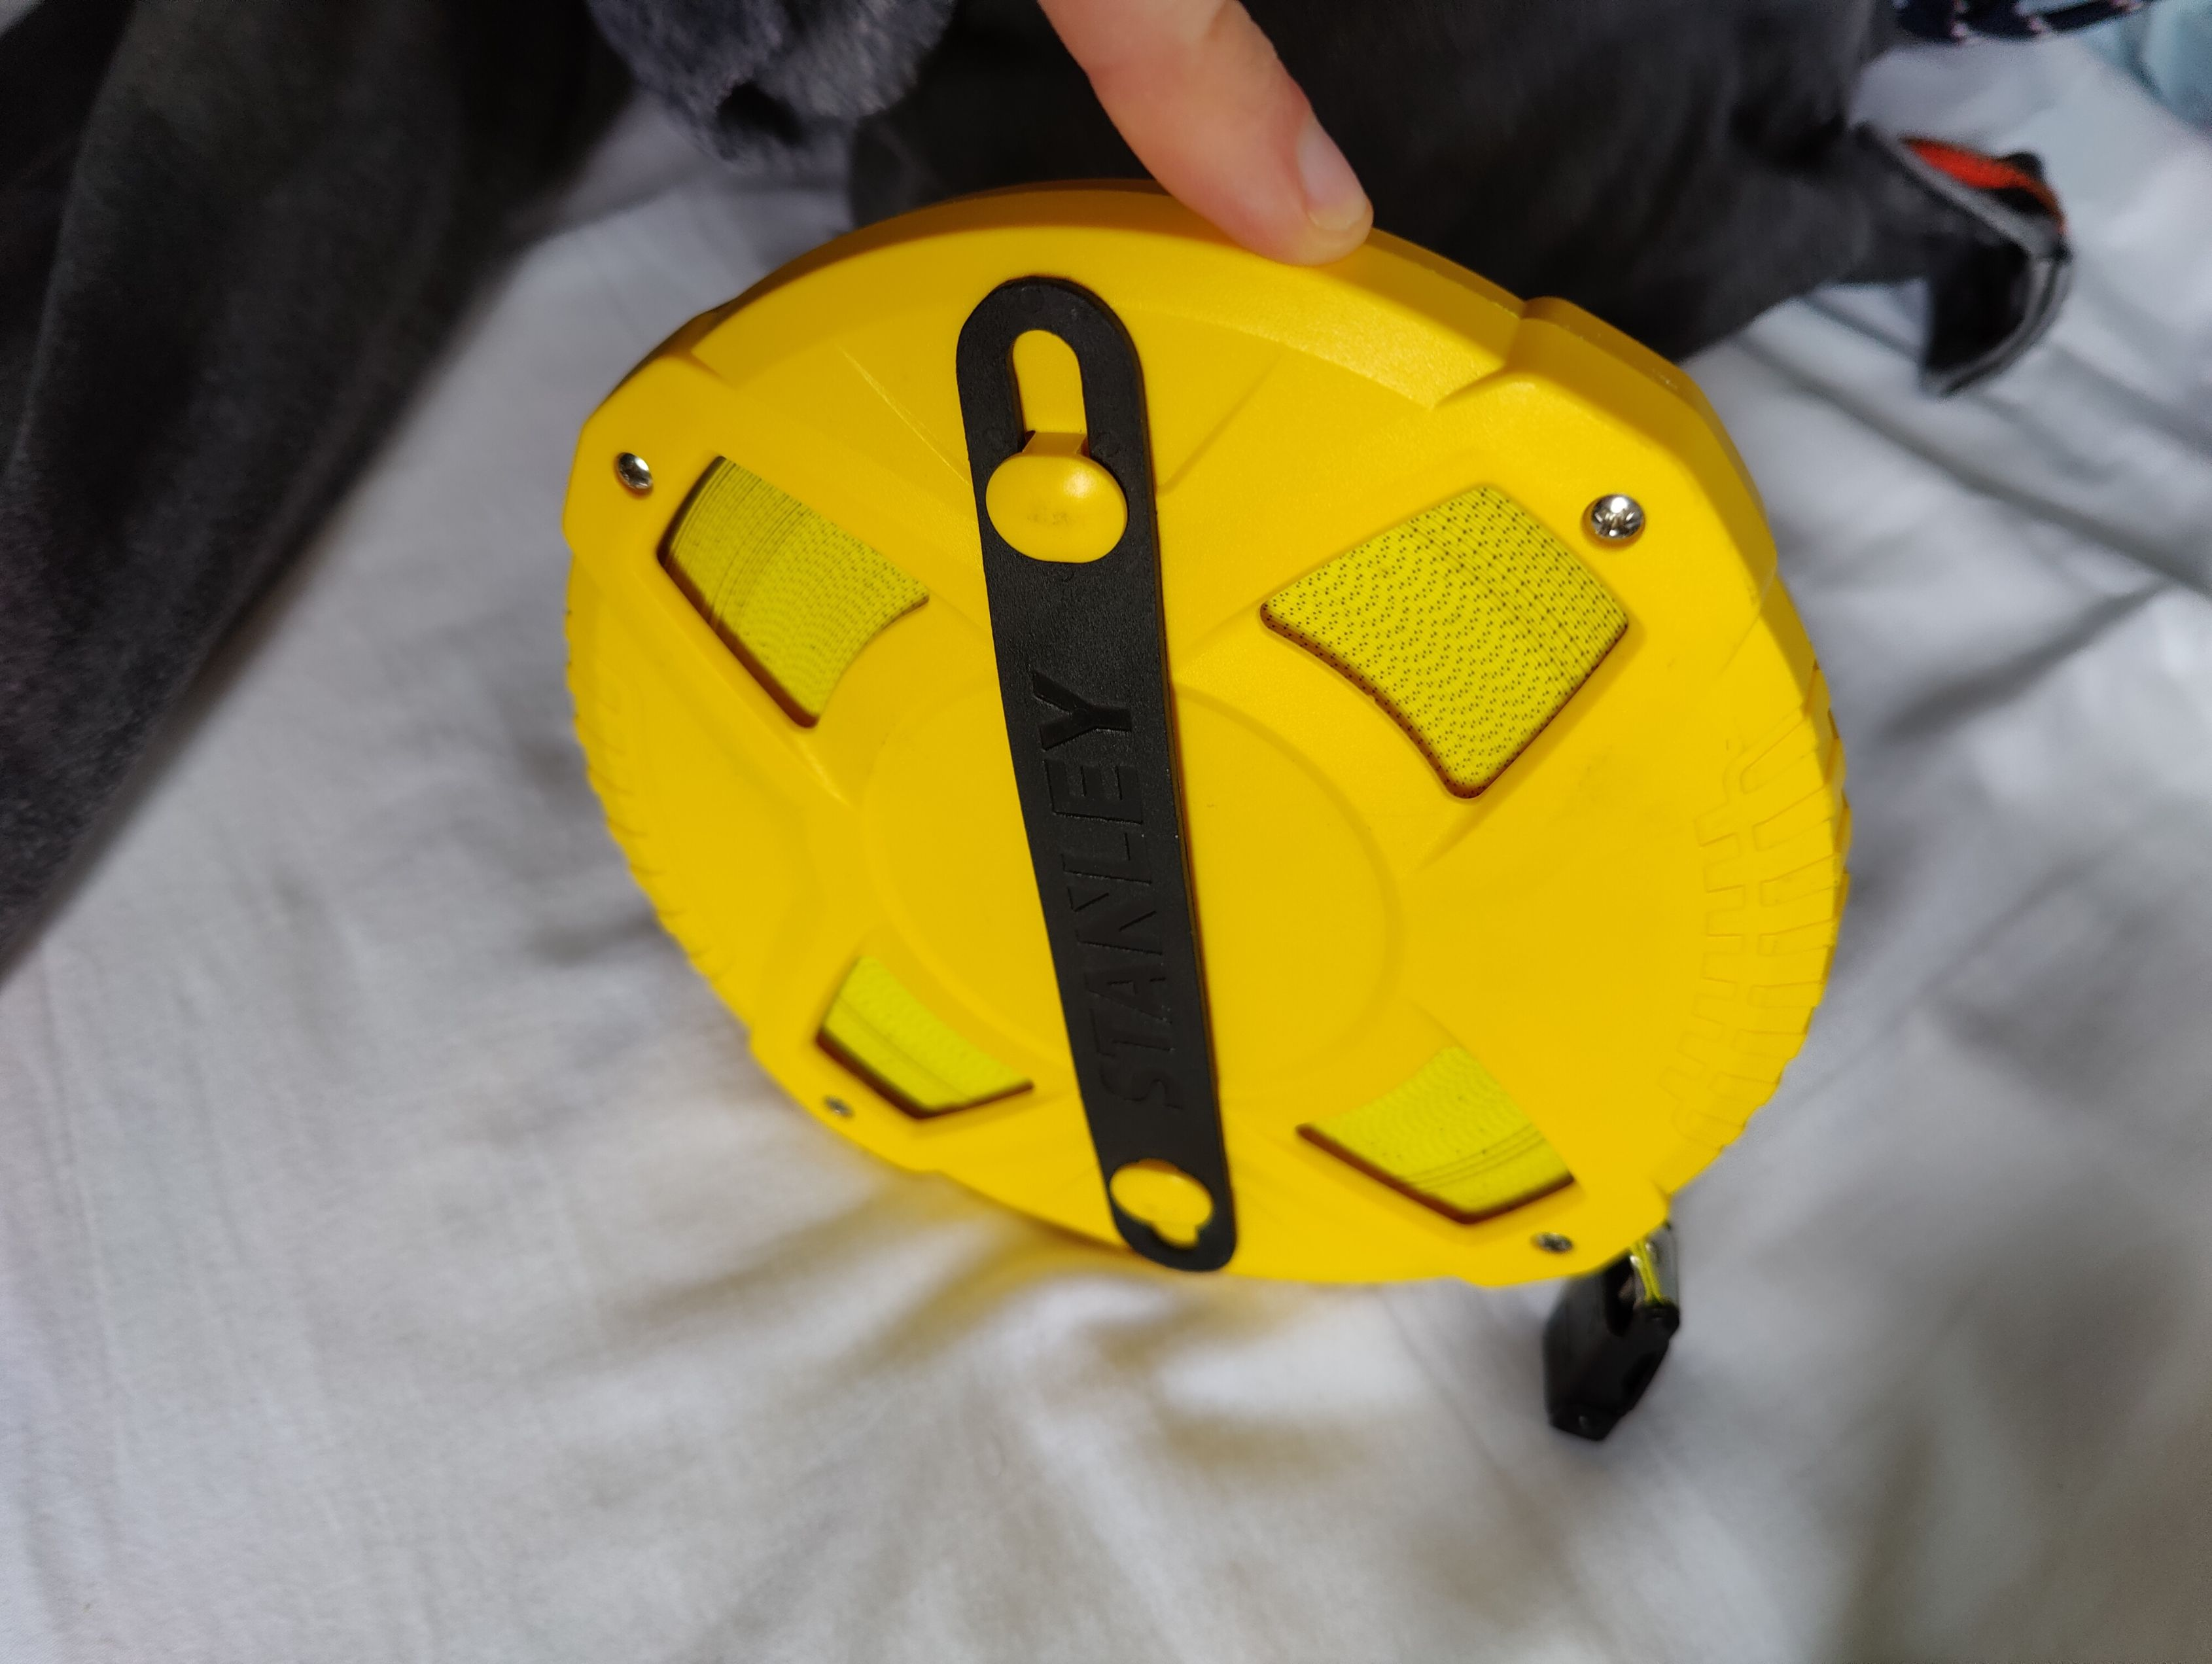tapemeasure: (563, 187, 1847, 1440)
